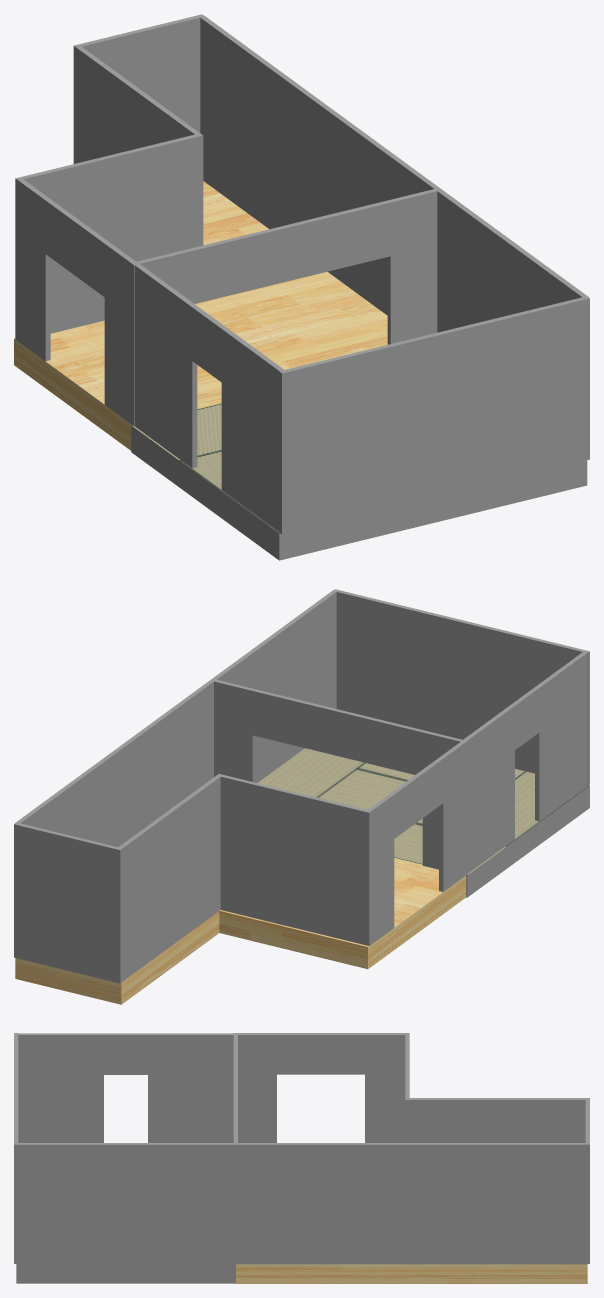
The model's file is LDKandJapanese.fbx.
The picture shows the model from 3 angles, top to bottom: view 1: azimuth 30°, elevation 25°; view 2: azimuth 150°, elevation 25°; view 3: azimuth 270°, elevation 25°; orthographic projection. The views are drawn at different scales.
Parts seen in each view (by area): view 1: pCube49, pCube23, polySurface11, polySurface1, polySurface10, pCube43, pCube4, polySurface12, pCube22, pCube11, pCube40; view 2: pCube49, pCube43, polySurface11, pCube11, pCube23, pCube40, polySurface10, polySurface1, pCube4, polySurface12, pCube22; view 3: pCube23, pCube22, polySurface11, polySurface12, pCube40, polySurface1, pCube4, pCube49, pCube11, pCube43, polySurface10.
Boxes of the visible parts, x1,y1,x2,y2 form: pCube49: (279,296,589,534); pCube23: (199,15,440,315); polySurface11: (135,264,285,531); polySurface1: (14,181,387,450); polySurface10: (131,189,439,344); pCube43: (15,133,203,339); pCube4: (131,403,587,560); polySurface12: (16,177,139,426); pCube22: (436,189,588,332); pCube11: (73,14,204,163); pCube40: (76,46,199,163); pCube49: (334,589,589,786); pCube43: (217,774,370,945); polySurface11: (463,651,587,873); pCube11: (14,822,122,983); pCube23: (15,679,214,847); pCube40: (119,775,220,981); polySurface10: (214,679,465,869); polySurface1: (15,858,466,1004); pCube4: (257,748,589,897); polySurface12: (366,739,467,945); pCube22: (211,590,336,782); pCube23: (236,1143,587,1264); pCube22: (16,1143,235,1264); polySurface11: (16,1033,235,1142); polySurface12: (233,1033,408,1142); pCube40: (409,1098,585,1142); polySurface1: (236,1264,587,1283); pCube4: (16,1264,235,1283); pCube49: (14,1033,18,1263); pCube11: (585,1098,589,1263); pCube43: (405,1033,409,1142); polySurface10: (233,1033,237,1143).
Size of the model in its own units: 6.04 by 3.5 by 13.1.
